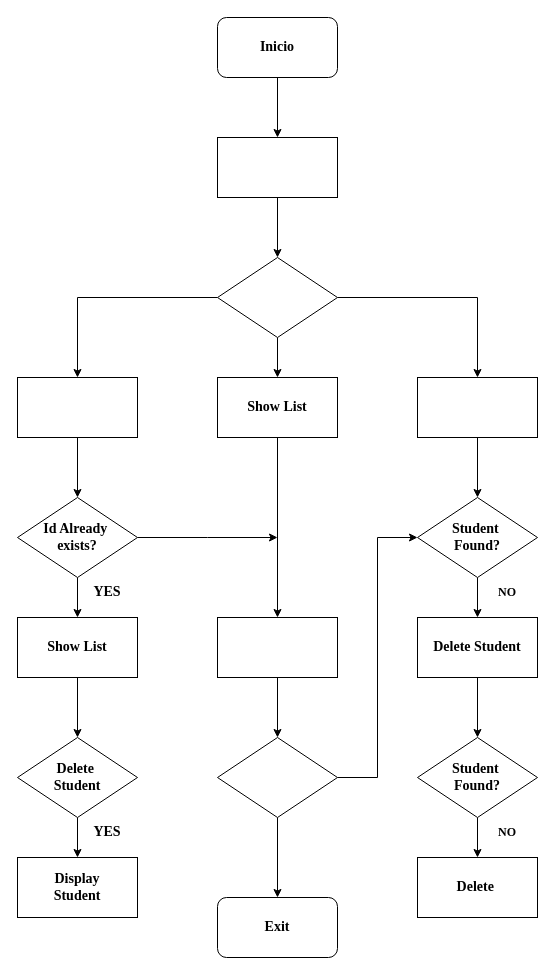
Some shapes in this 555 by 975 pixel diagram are drawn without their labels. Here are the shapes that lost their labels. From the top down, the box of each, then its label:
(216, 136, 338, 198): Show Menu
(216, 256, 338, 338): Choose Option
(16, 376, 138, 438): Add Student
(416, 376, 538, 438): Search by Id
(216, 616, 338, 678): Search Student
(216, 736, 338, 818): Update Student
